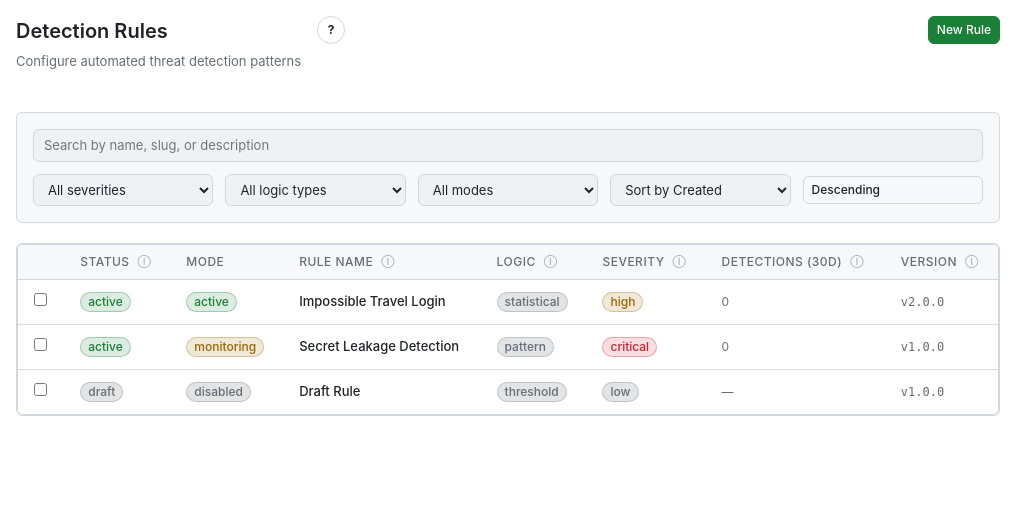
Test: RulesPage › shows bulk actions when rules are selected
Click the checkbox named "select impossible travel login": (40, 300) x1=34 y1=293 x2=47 y2=306
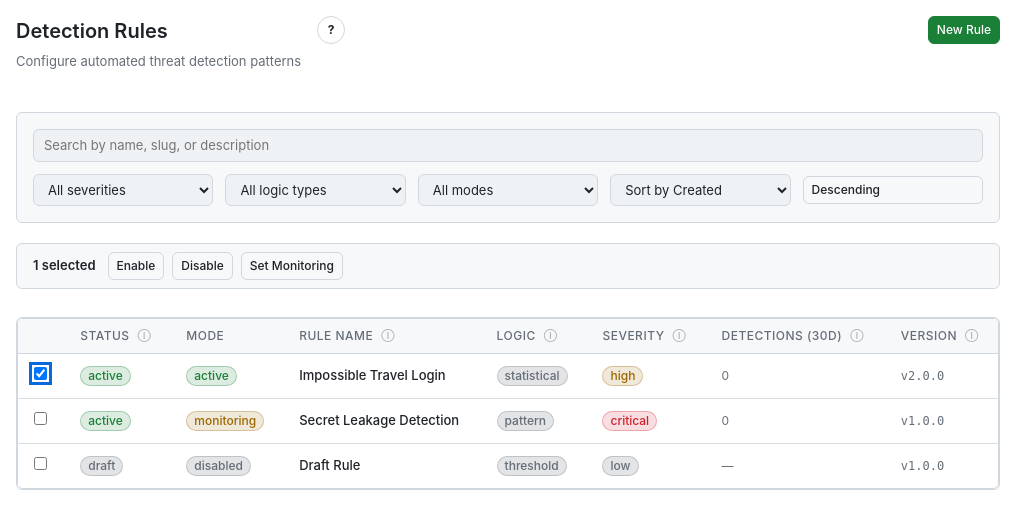
Now the text "1 selected" is shown, box x1=33 y1=256 x2=96 y2=276
Now the button "Set Monitoring" is shown, box x1=241 y1=252 x2=343 y2=280
